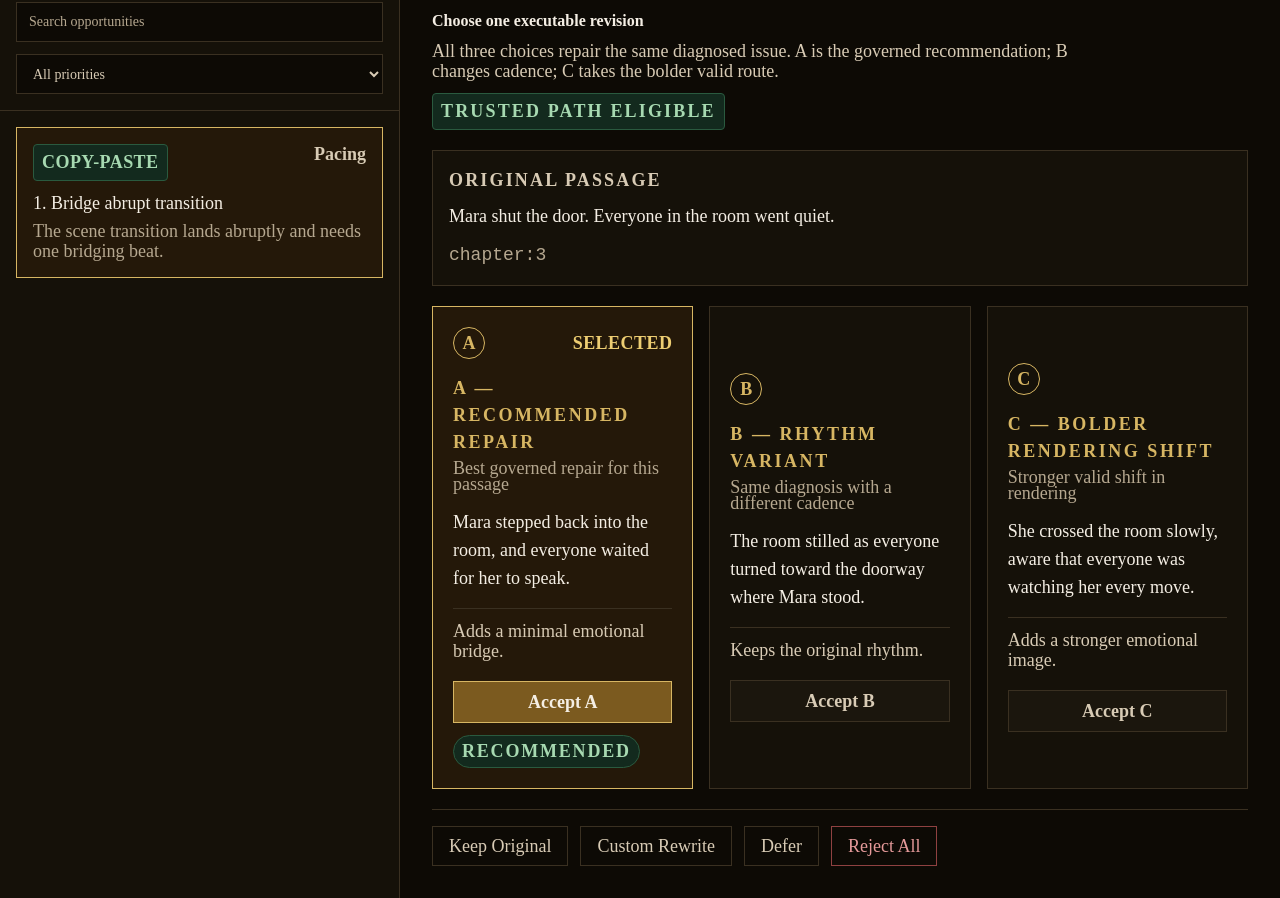
ReviseCockpitClientWorkflowV2 › offers a retry action when ledger sync fails and clears it after success
(page scrolled)
Click the button "Accept A" at (563, 702), box [453,681,672,723]
(page scrolled)
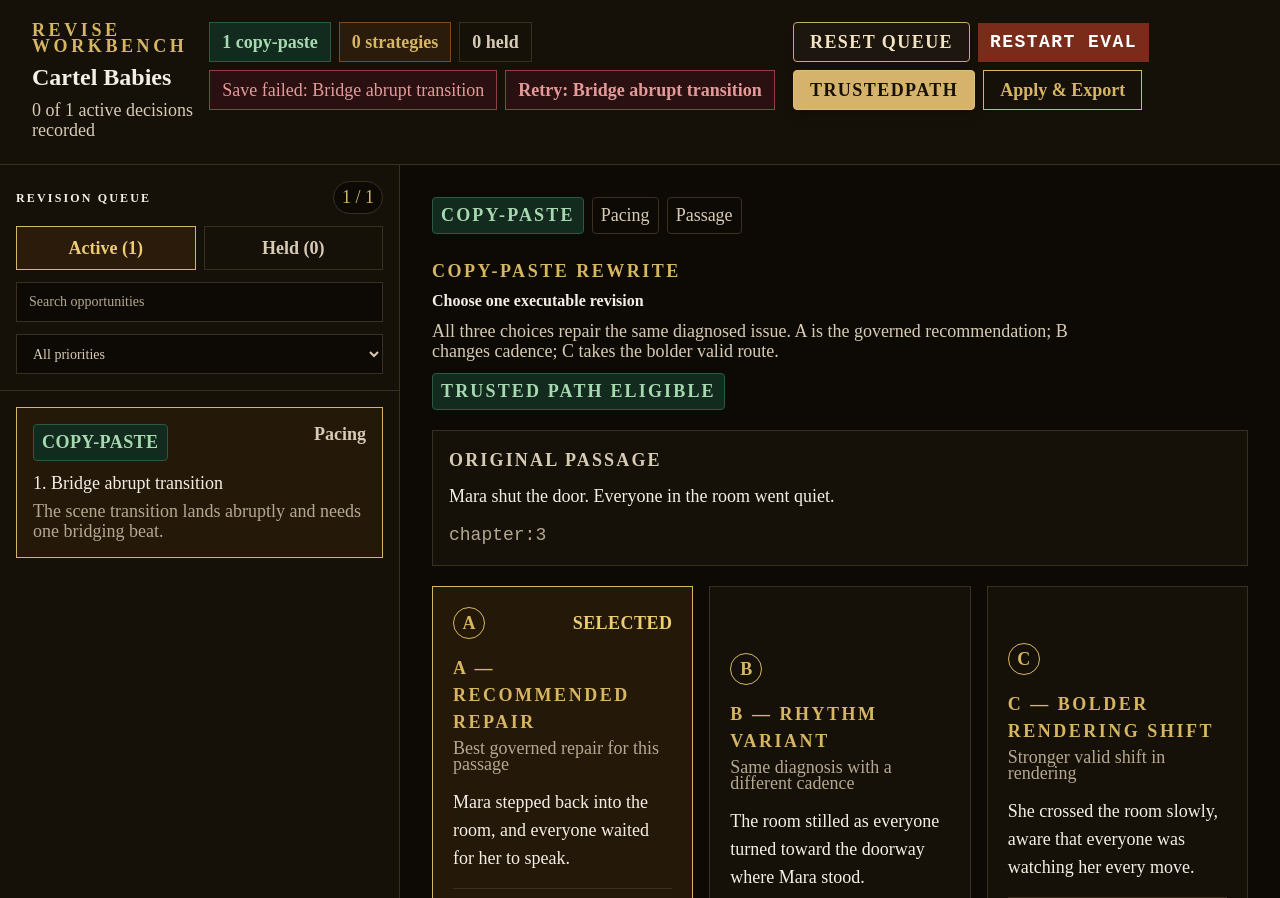
Expected: the message shows "Save failed:", [222,80,484,100]
Click the button "Retry: Bridge abrupt transition" at (640, 90), box [505,70,775,110]
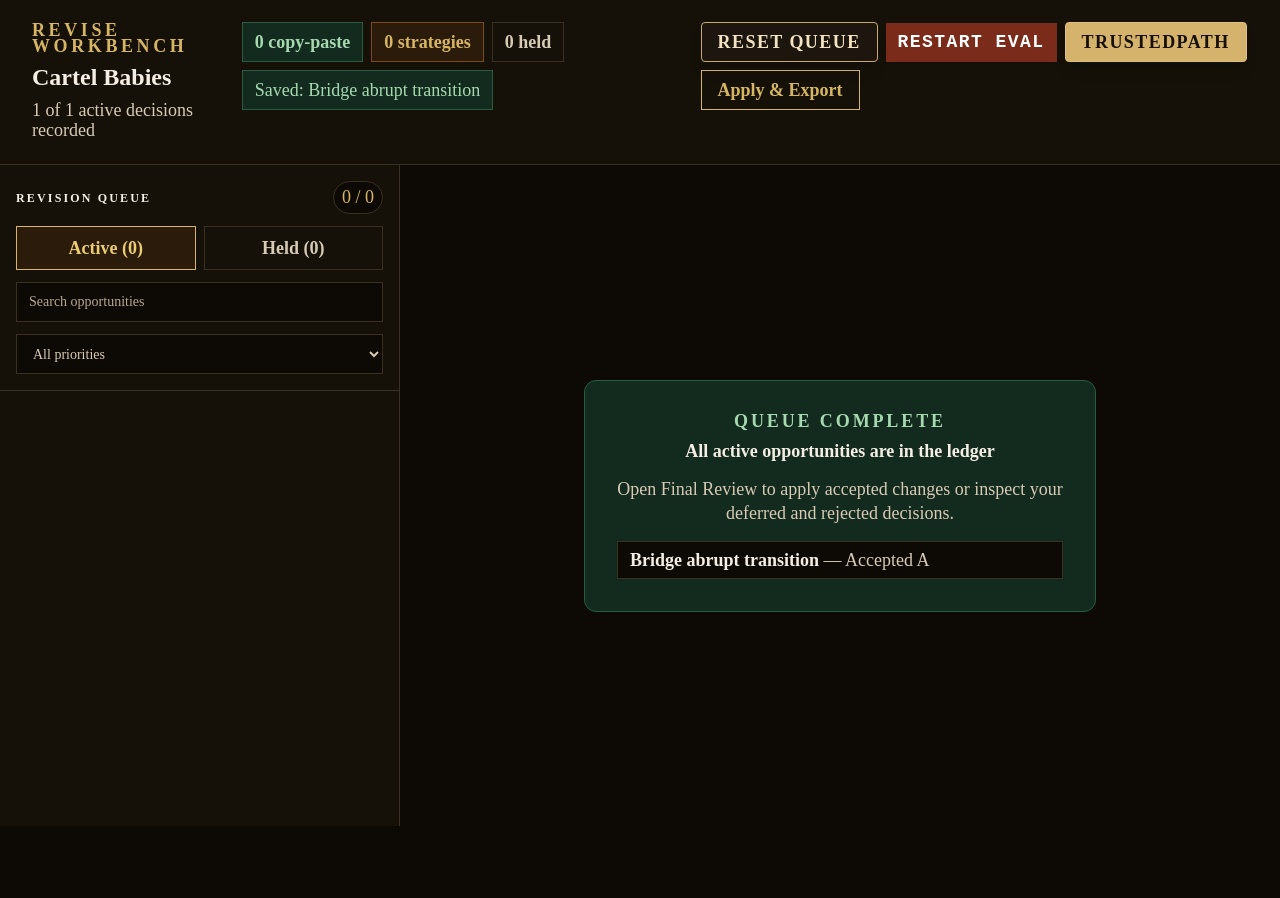
Expected: the button "Retry:" is gone
Expected: the message shows "Saved:", [255,80,480,100]
